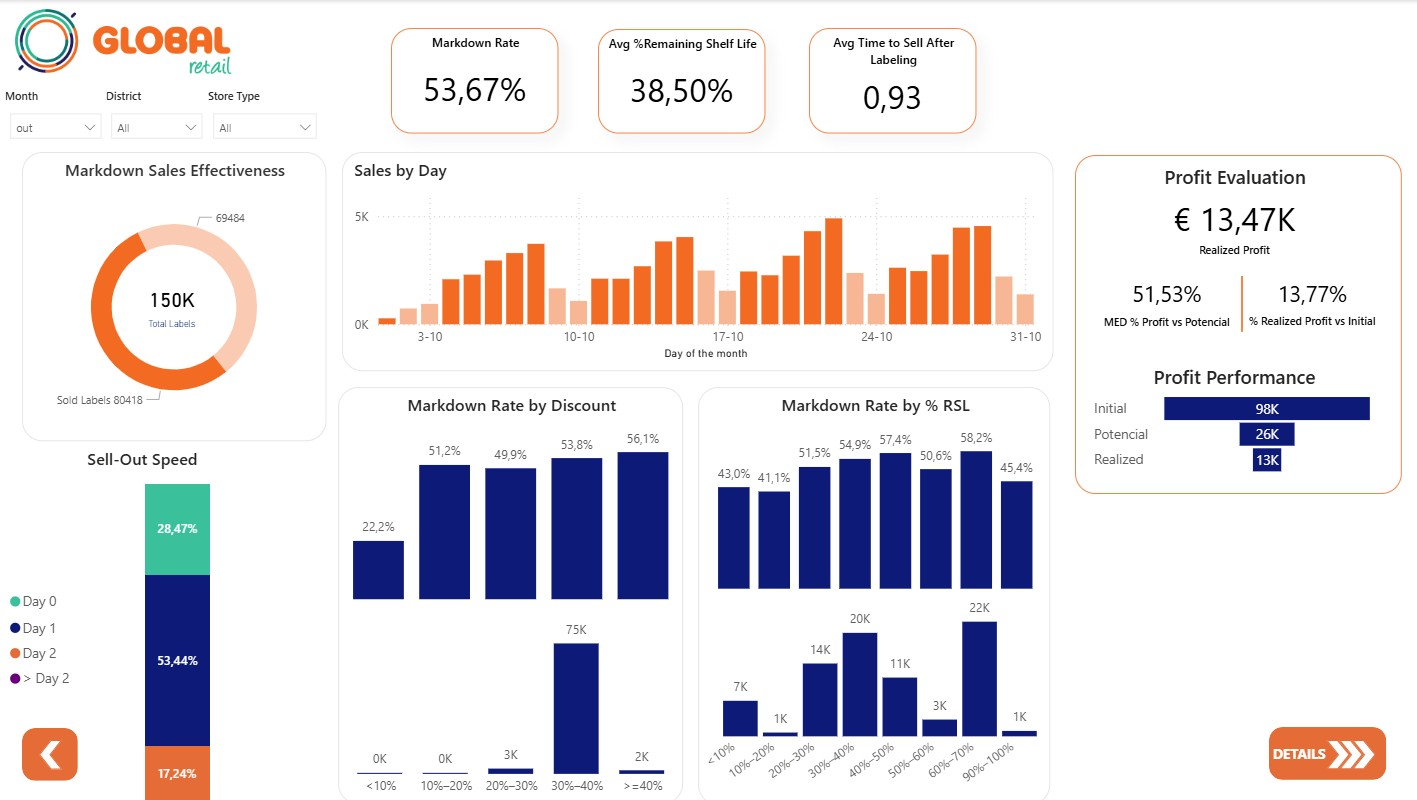

The page's visual inventory and layout, read from the dashboard file:
{"tool":"powerbi","page":{"name":"Executive Summary","canvas":[1400,800],"ordinal":2},"visuals":[{"type":"slicer","title":"District","fields":{"Values":["Stores.district"]},"box":[100,87,110,53],"z":0,"group":"g2"},{"type":"shape","box":[1059.1,152.8,322.2,334],"z":0,"group":"g4"},{"type":"hundredPercentStackedColumnChart","title":"Sell-Out Speed","fields":{"Y":["Dataset.MED % Vendidos Dia 0","Dataset.MED % Vendidos Dia 1","Dataset.MED % Vendidos Dia 2","Dataset.MED % Vendidos >2 Dias"]},"box":[3.9,441.4,272.9,351.7],"z":0},{"type":"shape","box":[333.1,381.2,339.5,411.3],"z":500,"group":"g5"},{"type":"card","title":"Avg %Remaining Shelf Life","fields":{"Values":["Avg(Dataset.perc_expiring_sku)"]},"box":[588.9,29,165,103],"z":1000},{"type":"slicer","title":"Month","fields":{"Values":["DimDate.MonthAbbr_PT"]},"box":[0,87,110,53],"z":1000,"group":"g2"},{"type":"slicer","title":"Store Type","fields":{"Values":["Stores.type"]},"box":[200,87,122,53],"z":2000,"group":"g2"},{"type":"donutChart","title":"Markdown Sales Effectiveness","fields":{"Y":["Dataset.MED Total Etiquetas Emitidas Vendidas","Dataset.MED Total Etiquetas Emitidas Não Vendidas"]},"box":[21.7,149.8,299.5,284.7],"z":2000,"group":"g1"},{"type":"shape","box":[687.4,381.2,346.9,412],"z":2000},{"type":"card","title":"Markdown Rate","fields":{"Values":["Dataset.MED % Eficácia"]},"box":[384.9,28,165,104],"z":3000},{"type":"card","title":"Avg Time to Sell After Labeling","fields":{"Values":["Avg(Dataset.days_to_sell)"]},"box":[797.3,27.9,165,103.6],"z":4000},{"type":"clusteredColumnChart","title":"Sales by Day","fields":{"Category":["Dataset.sell_date.Variação.Hierarquia de Datas.Dia"],"Y":["Dataset.MED Total Etiquetas Emitidas Vendidas_sell"]},"box":[336.9,149.8,701.5,215.8],"z":5000},{"type":"image","box":[10,1.1,223.3,80],"z":6000},{"type":"card","title":"Total Profit","fields":{"Values":["Dataset.MED Profit Capturado (€)"]},"box":[1134,171.5,164.5,103.4],"z":6000,"group":"g4"},{"type":"columnChart","fields":{"Category":["Dataset.Desconto Bucket"],"Y":["Dataset.MED Count Bucket Discount"]},"box":[321.2,597.6,366.2,194.4],"z":6000,"group":"g3"},{"type":"card","title":"%Profit Attainment","fields":{"Values":["Dataset.MED % Profit Realizado"]},"box":[1209.9,246.2,166,104],"z":7000,"group":"g4"},{"type":"shape","box":[1250,716.7,115.6,52.2],"z":7000},{"type":"card","title":"Etiquetas Emitidas","fields":{"Values":["Dataset.MED Total Etiquetas Emitidas"]},"box":[127.8,271.6,82.3,59.4],"z":8000,"group":"g1"},{"type":"columnChart","title":"Markdown Rate by % RSL","fields":{"Y":["Dataset.MED % Eficácia"],"Category":["Dataset.Perc_expiring Bucket"]},"box":[702.7,387.8,320.5,197.8],"z":8000},{"type":"columnChart","title":"Markdown Rate by Discount","fields":{"Category":["Dataset.Desconto Bucket"],"Y":["Dataset.MED % Eficácia"]},"box":[342.9,388.1,322.7,208.2],"z":8000,"group":"g5"},{"type":"shape","box":[1332.2,728.9,23.3,28.9],"z":9000},{"type":"columnChart","fields":{"Y":["Dataset.MED Count Perc_exp"],"Category":["Dataset.Perc_expiring Bucket"]},"box":[687.7,572,354.9,221],"z":10000},{"type":"shape","box":[1306.7,728.9,23.3,28.9],"z":11000},{"type":"shape","box":[1318.9,728.9,23.3,28.9],"z":12000},{"type":"card","title":"Total Profit","fields":{"Values":["Dataset.MED % Profit vs Potencial"]},"box":[1066.9,247.2,165,103],"z":13000,"group":"g4"},{"type":"shape","box":[22,717,55,52],"z":13000},{"type":"shape","box":[38,729,23,29],"z":14000},{"type":"group","id":"g1","title":"Group 1","box":[21.7,149.8,299.5,284.7],"z":15000},{"type":"group","id":"g2","title":"Group 3","box":[0,87,322,53],"z":16000},{"type":"funnel","title":"Profit Performance","fields":{"Y":["Dataset.Profit Inicial","Dataset.MED Profit Potencial (€)","Dataset.MED € Profit"]},"box":[1072.9,358.7,286.7,113.3],"z":16000,"group":"g4"},{"type":"shape","box":[1186.3,272,74.9,55.2],"z":18000,"group":"g4"},{"type":"group","id":"g3","title":"Group 5","box":[321.2,381.2,366.2,411.3],"z":18000},{"type":"group","id":"g4","title":"Group 2","box":[1059.1,149.8,322.2,336.9],"z":19000},{"type":"textbox","box":[1125.1,149.8,183.3,46.3],"z":23000,"group":"g4"},{"type":"group","id":"g5","title":"Group 4","box":[333.1,381.2,339.5,411.3],"z":24000,"group":"g3"}]}

Visuals, with their boxes in screenshot pixels (x1, y1, x2, y2), scaled from the page's 1400x800 canvas onto the 1417x800 screenshot:
"District" slicer: 101,87,213,140
shape: 1072,153,1398,487
"Sell-Out Speed" hundredPercentStackedColumnChart: 4,441,280,793
shape: 337,381,681,792
"Avg %Remaining Shelf Life" card: 596,29,763,132
"Month" slicer: 0,87,111,140
"Store Type" slicer: 202,87,326,140
"Markdown Sales Effectiveness" donutChart: 22,150,325,434
shape: 696,381,1047,793
"Markdown Rate" card: 390,28,557,132
"Avg Time to Sell After Labeling" card: 807,28,974,132
"Sales by Day" clusteredColumnChart: 341,150,1051,366
image: 10,1,236,81
"Total Profit" card: 1148,172,1314,275
columnChart - Dataset.Desconto Bucket x Dataset.MED Count Bucket Discount: 325,598,696,792
"%Profit Attainment" card: 1225,246,1393,350
shape: 1265,717,1382,769
"Etiquetas Emitidas" card: 129,272,213,331
"Markdown Rate by % RSL" columnChart: 711,388,1036,586
"Markdown Rate by Discount" columnChart: 347,388,674,596
shape: 1348,729,1372,758
columnChart - Dataset.MED Count Perc_exp x Dataset.Perc_expiring Bucket: 696,572,1055,793
shape: 1323,729,1346,758
shape: 1335,729,1358,758
"Total Profit" card: 1080,247,1247,350
shape: 22,717,78,769
shape: 38,729,62,758
"Group 1" group: 22,150,325,434
"Group 3" group: 0,87,326,140
"Profit Performance" funnel: 1086,359,1376,472
shape: 1201,272,1277,327
"Group 5" group: 325,381,696,792
"Group 2" group: 1072,150,1398,487
textbox: 1139,150,1324,196
"Group 4" group: 337,381,681,792
